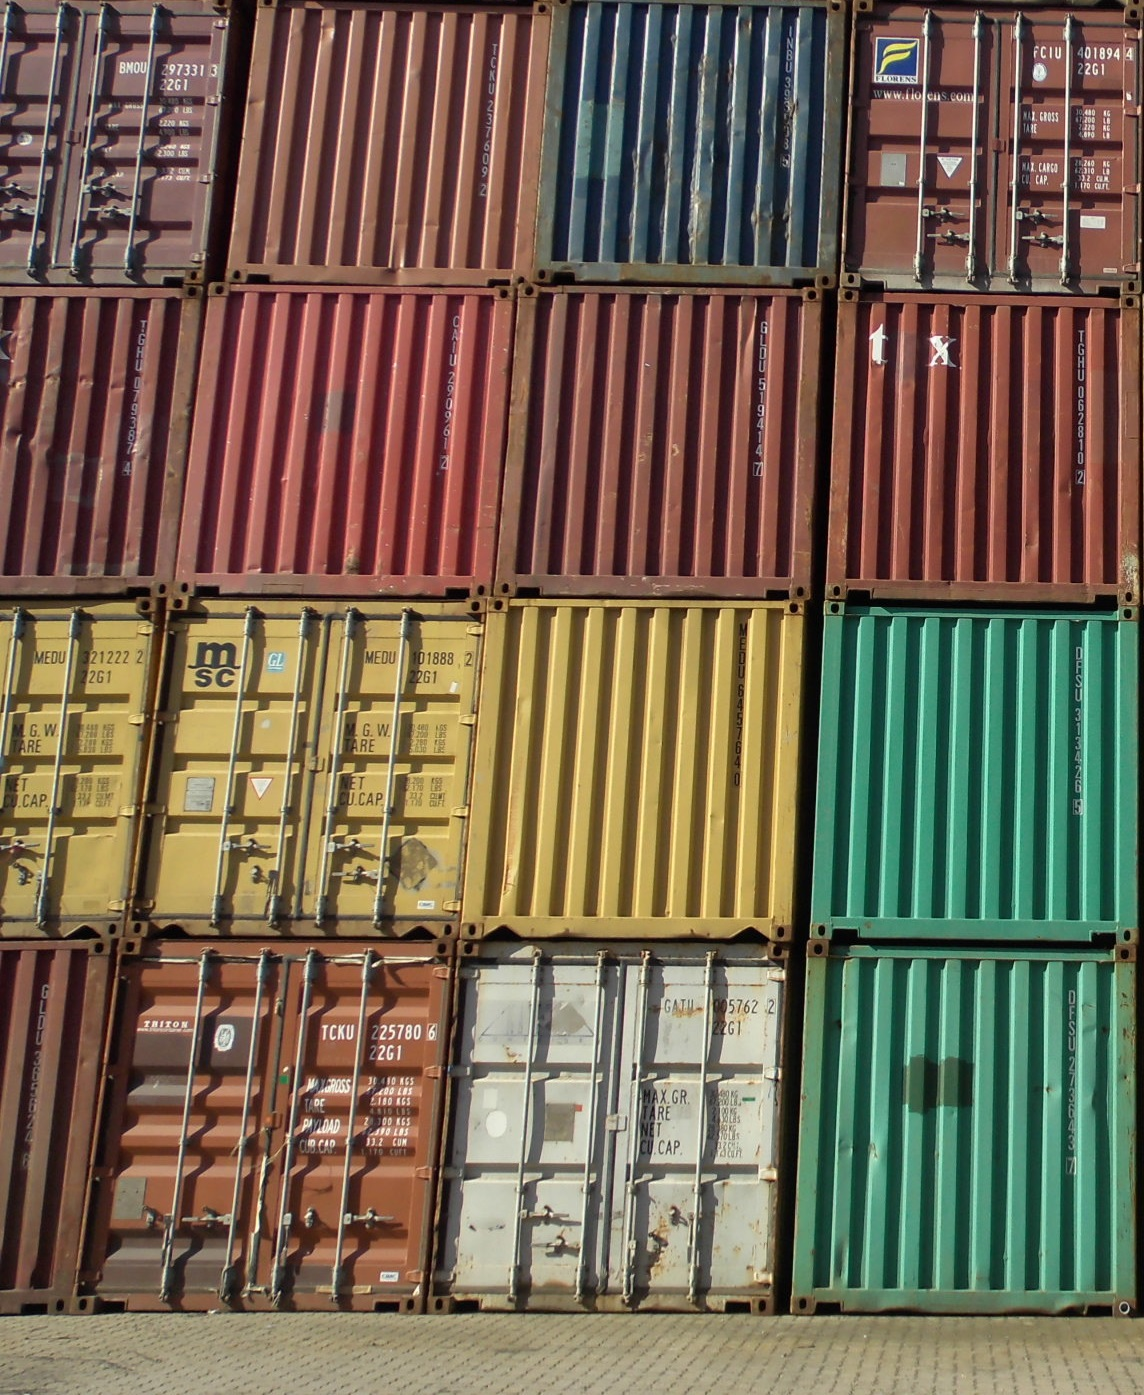container_door: (427, 942, 782, 1314), (107, 933, 430, 1310), (143, 598, 488, 937), (838, 1, 1144, 289), (1, 1, 227, 282), (1, 591, 139, 930)
container_no_door: (788, 943, 1136, 1316), (807, 606, 1142, 943), (468, 600, 803, 937), (187, 282, 500, 598), (503, 283, 816, 599), (822, 290, 1135, 606), (221, 1, 542, 285), (544, 1, 841, 282), (5, 282, 202, 593), (1, 937, 100, 1316)
